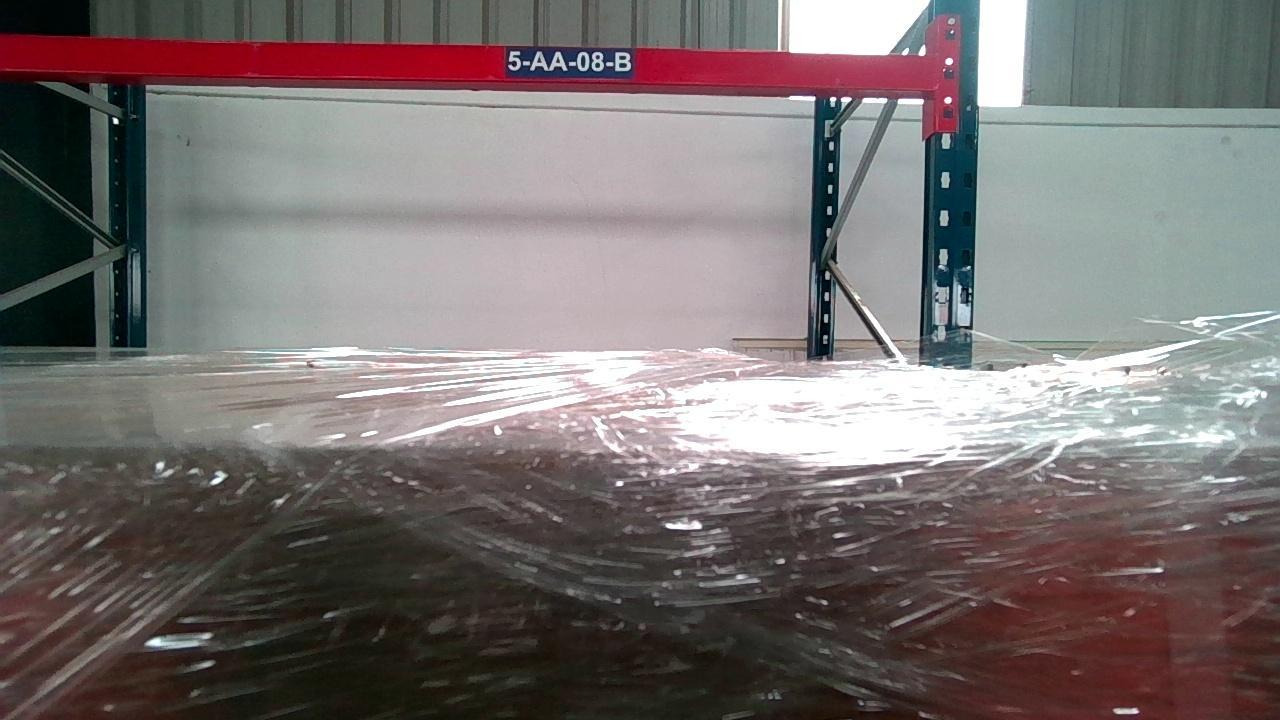h_rack: (0, 32, 932, 91)
